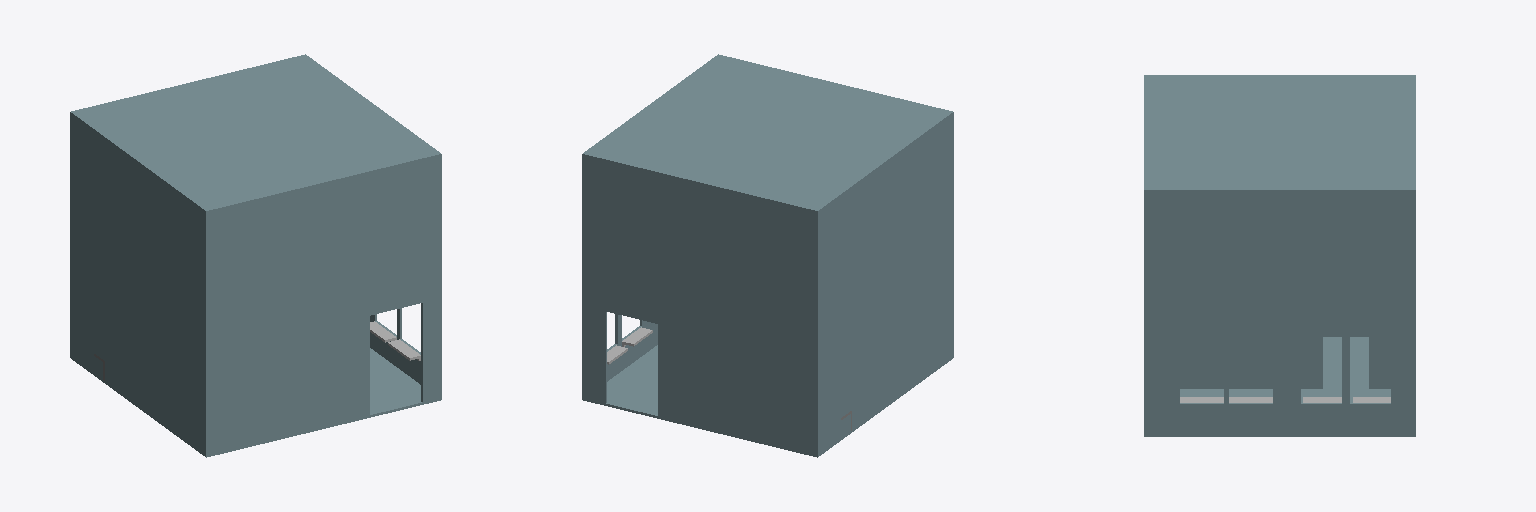
3 views of the same model, side by side, from view 1: azimuth 30°, elevation 25°; view 2: azimuth 150°, elevation 25°; view 3: azimuth 270°, elevation 25° (orthographic).
Visible parts, largest first — view 1: object 1; view 2: object 1; view 3: object 1.
Boxes of the visible parts, box(x1,y1,x2,y2) form: object 1: box(70, 54, 441, 457); object 1: box(582, 54, 953, 457); object 1: box(1144, 75, 1415, 436).
Bounding box in the file's own units: 9.9 × 9.9 × 9.9.
1 materials, 1 textured.